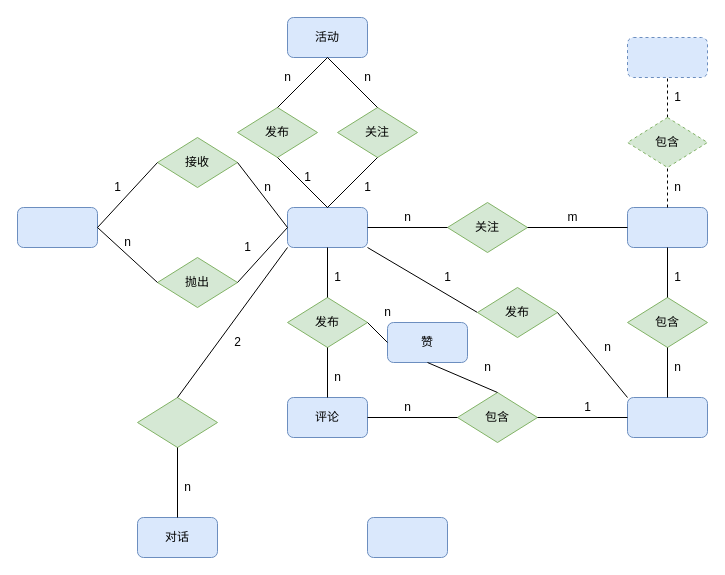
This 725x575 diagram has some shape labels left out. Here are the shapes that lost their labels. From the top down, the centre of each, then its label:
At (x=667, y=57): "社区".
At (x=57, y=227): "漂流瓶".
At (x=327, y=227): "用户".
At (x=667, y=227): "圈子".
At (x=177, y=422): "开启".
At (x=667, y=417): "帖子".
At (x=407, y=537): "消息".
